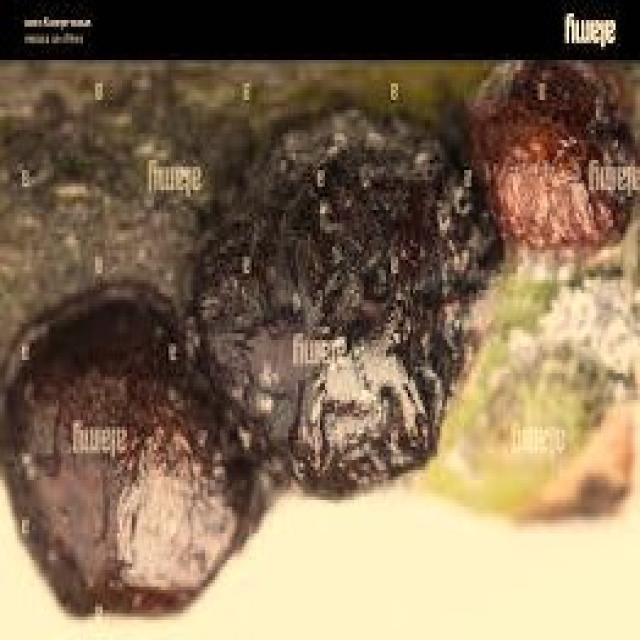BlackScale: (0, 106, 498, 606), (472, 60, 638, 257)
